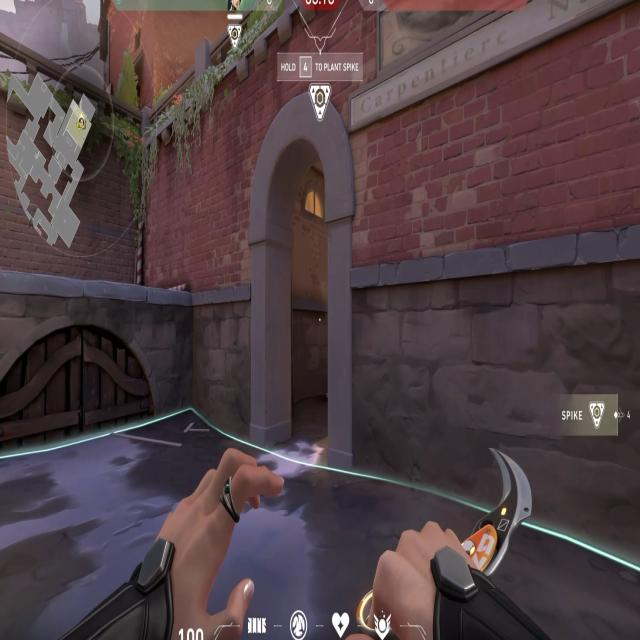B_Boathouse: (241, 75, 366, 468)
